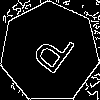P: (25, 27, 78, 83)
